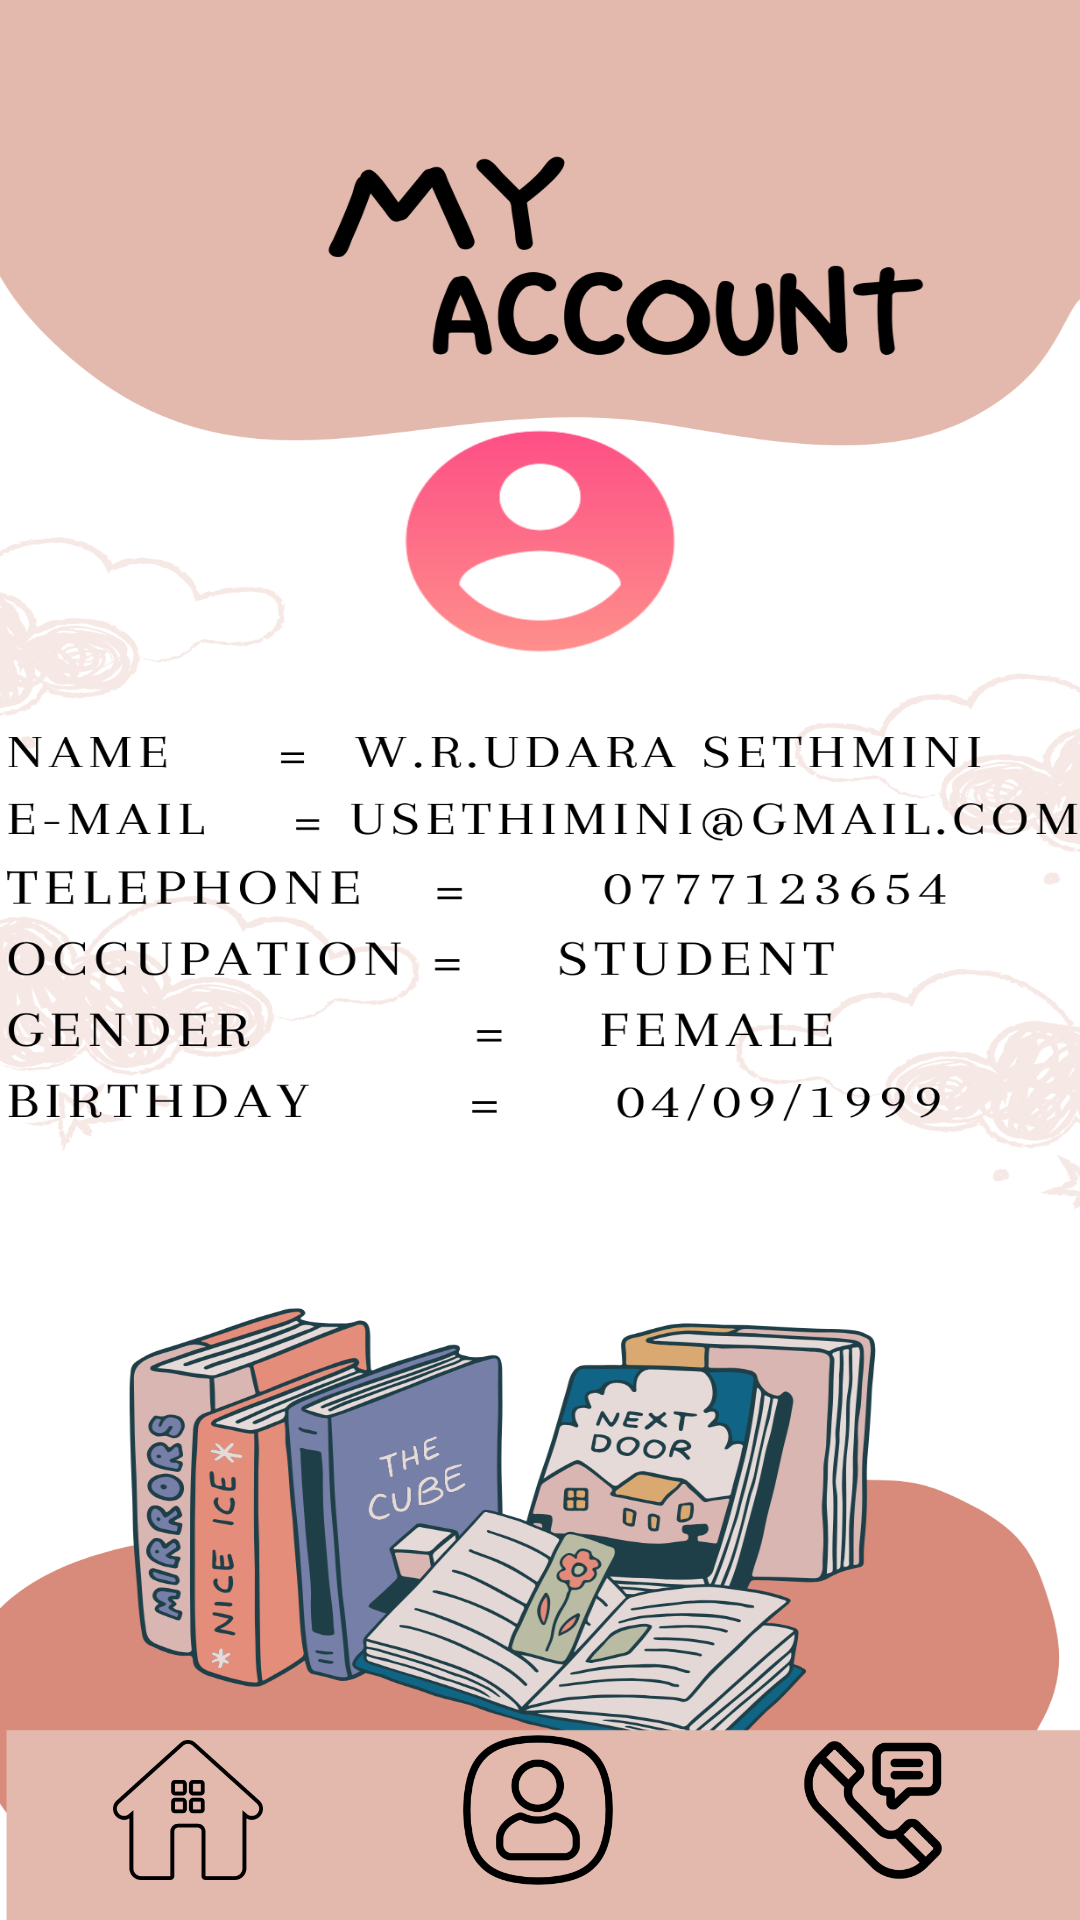

Icons on this 1080 × 1920 Android screen, each with its box as (x1, y1, x2, y2):
acc: (463, 1735, 613, 1885)
homee: (113, 1740, 263, 1880)
